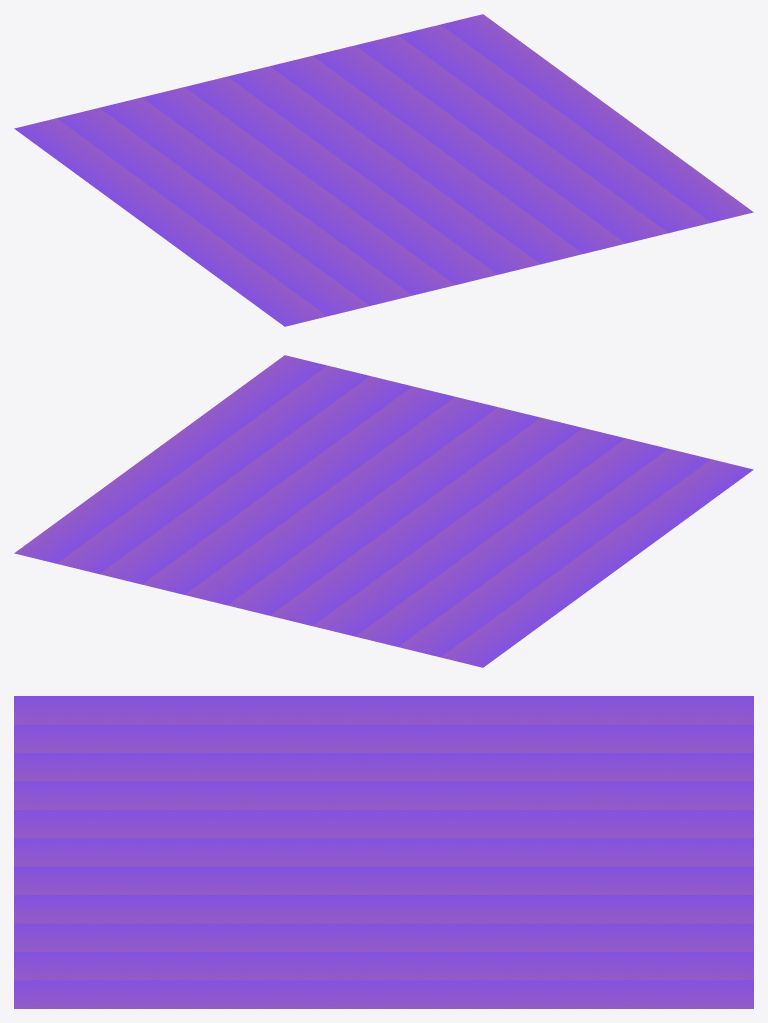
The model's file is HalfUVScrollPlane.fbx.
3 renders of one model, top to bottom at view 1: azimuth 30°, elevation 25°; view 2: azimuth 150°, elevation 25°; view 3: azimuth 270°, elevation 25°, orthographic. The views are drawn at different scales.
Parts seen in each view (by area): view 1: Plane; view 2: Plane; view 3: Plane.
Boxes of the visible parts, x1,y1,x2,y2 form: Plane: (14,14,753,326); Plane: (14,355,753,667); Plane: (14,696,753,1008).
Size of the model in its own units: 2 by 0 by 2.
1 material, 1 textured.
